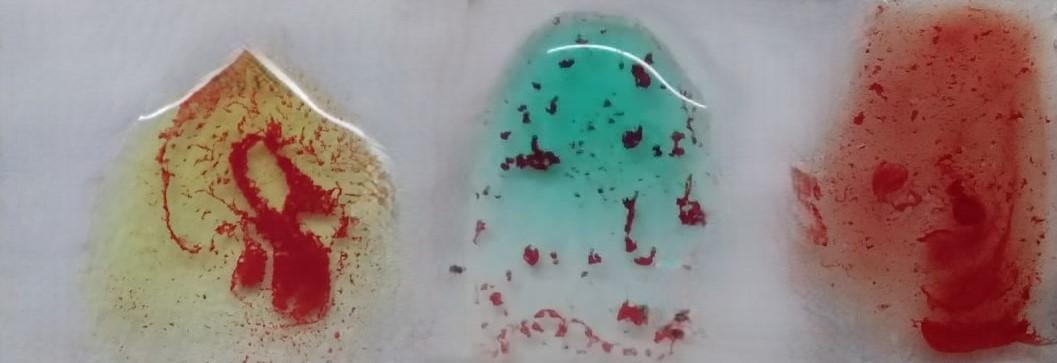A: (460, 4, 704, 363)
B: (108, 40, 394, 363)
D: (783, 4, 1057, 363)
